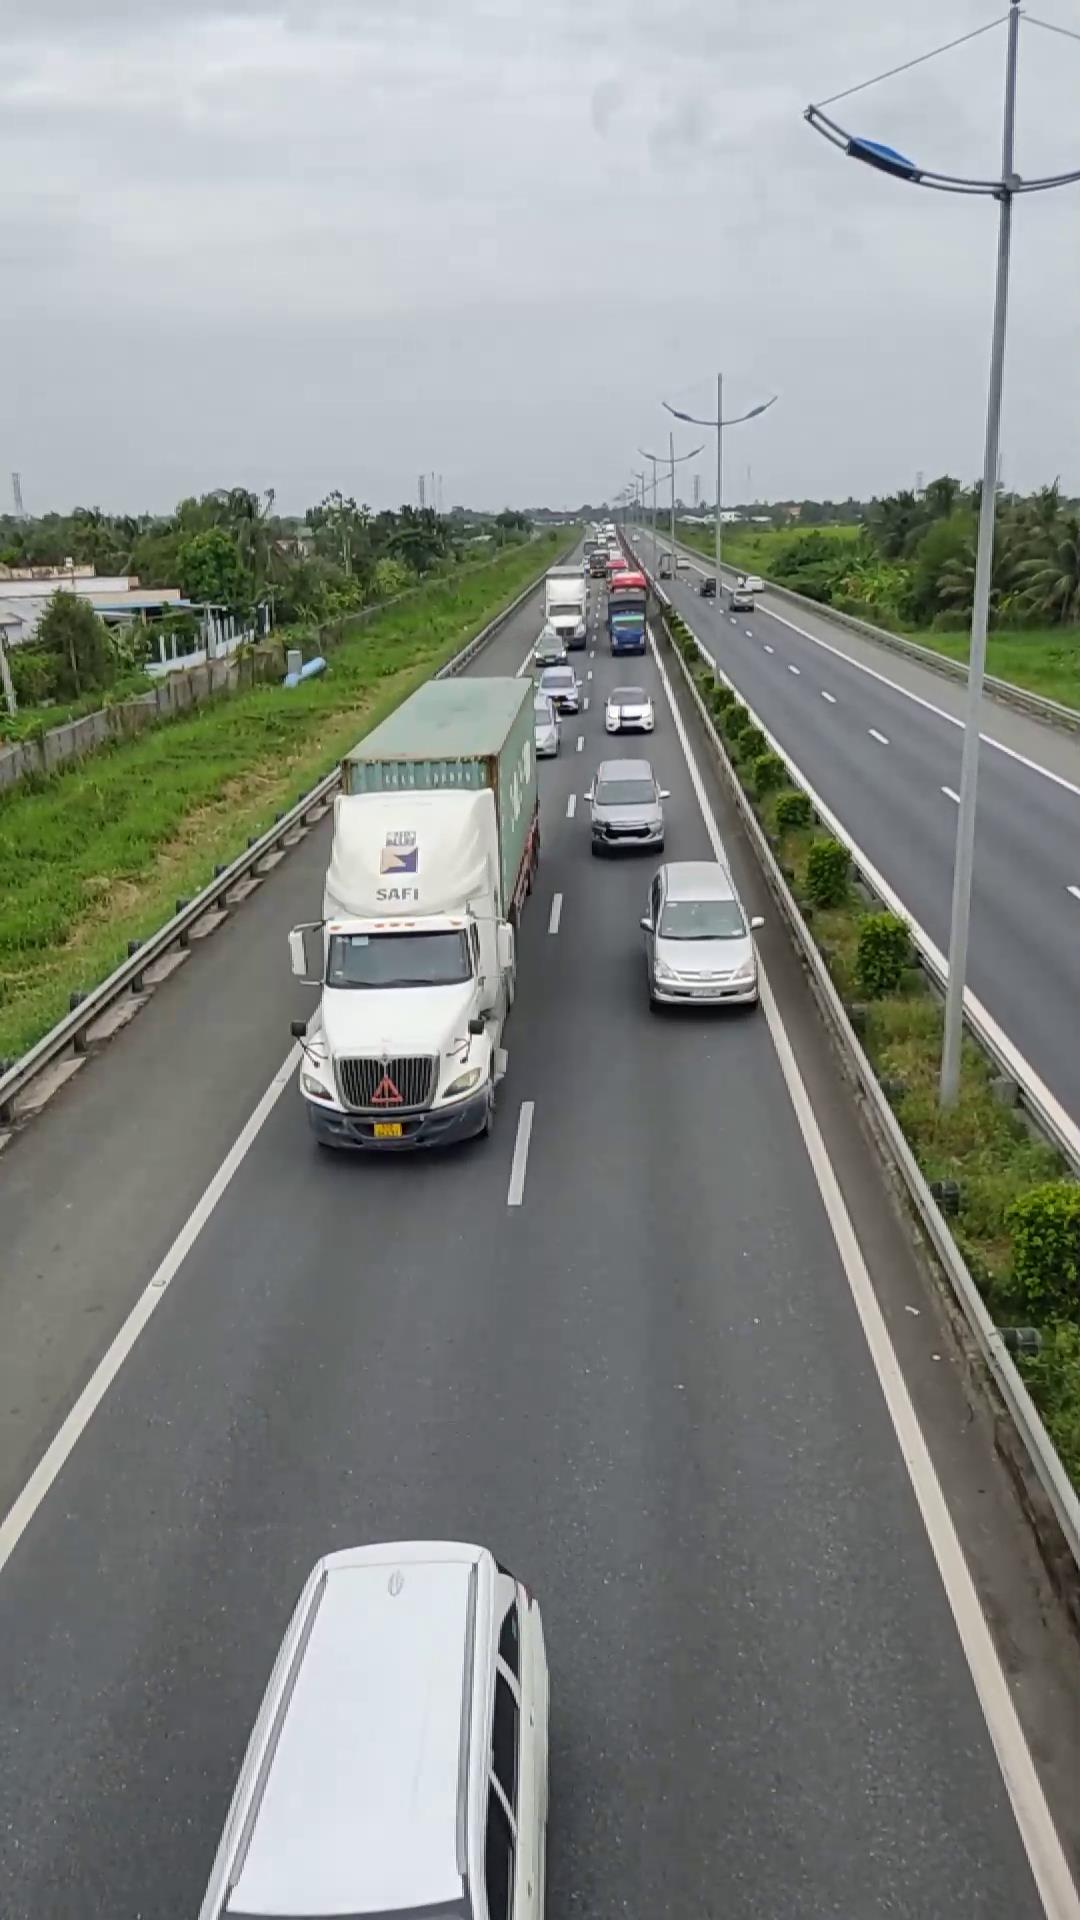car: (198, 1536, 553, 1913), (638, 858, 764, 1011), (580, 760, 669, 855)
container: (295, 670, 538, 1158)
